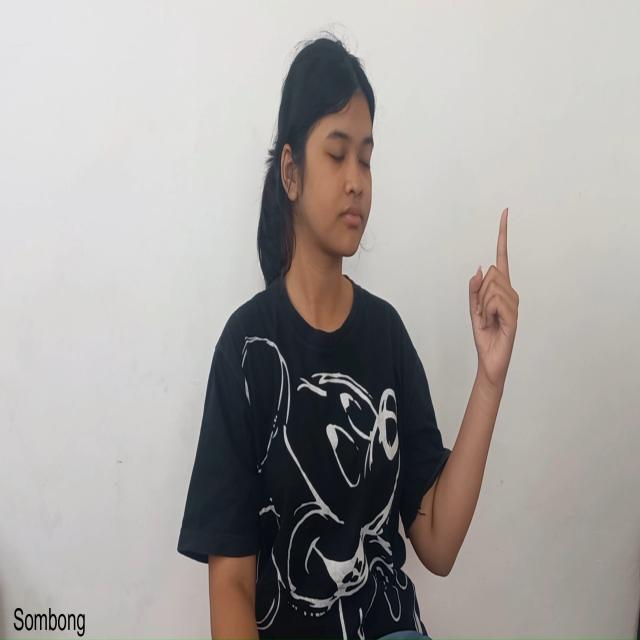Sombong -BISINDO-: (436, 182, 524, 576)
